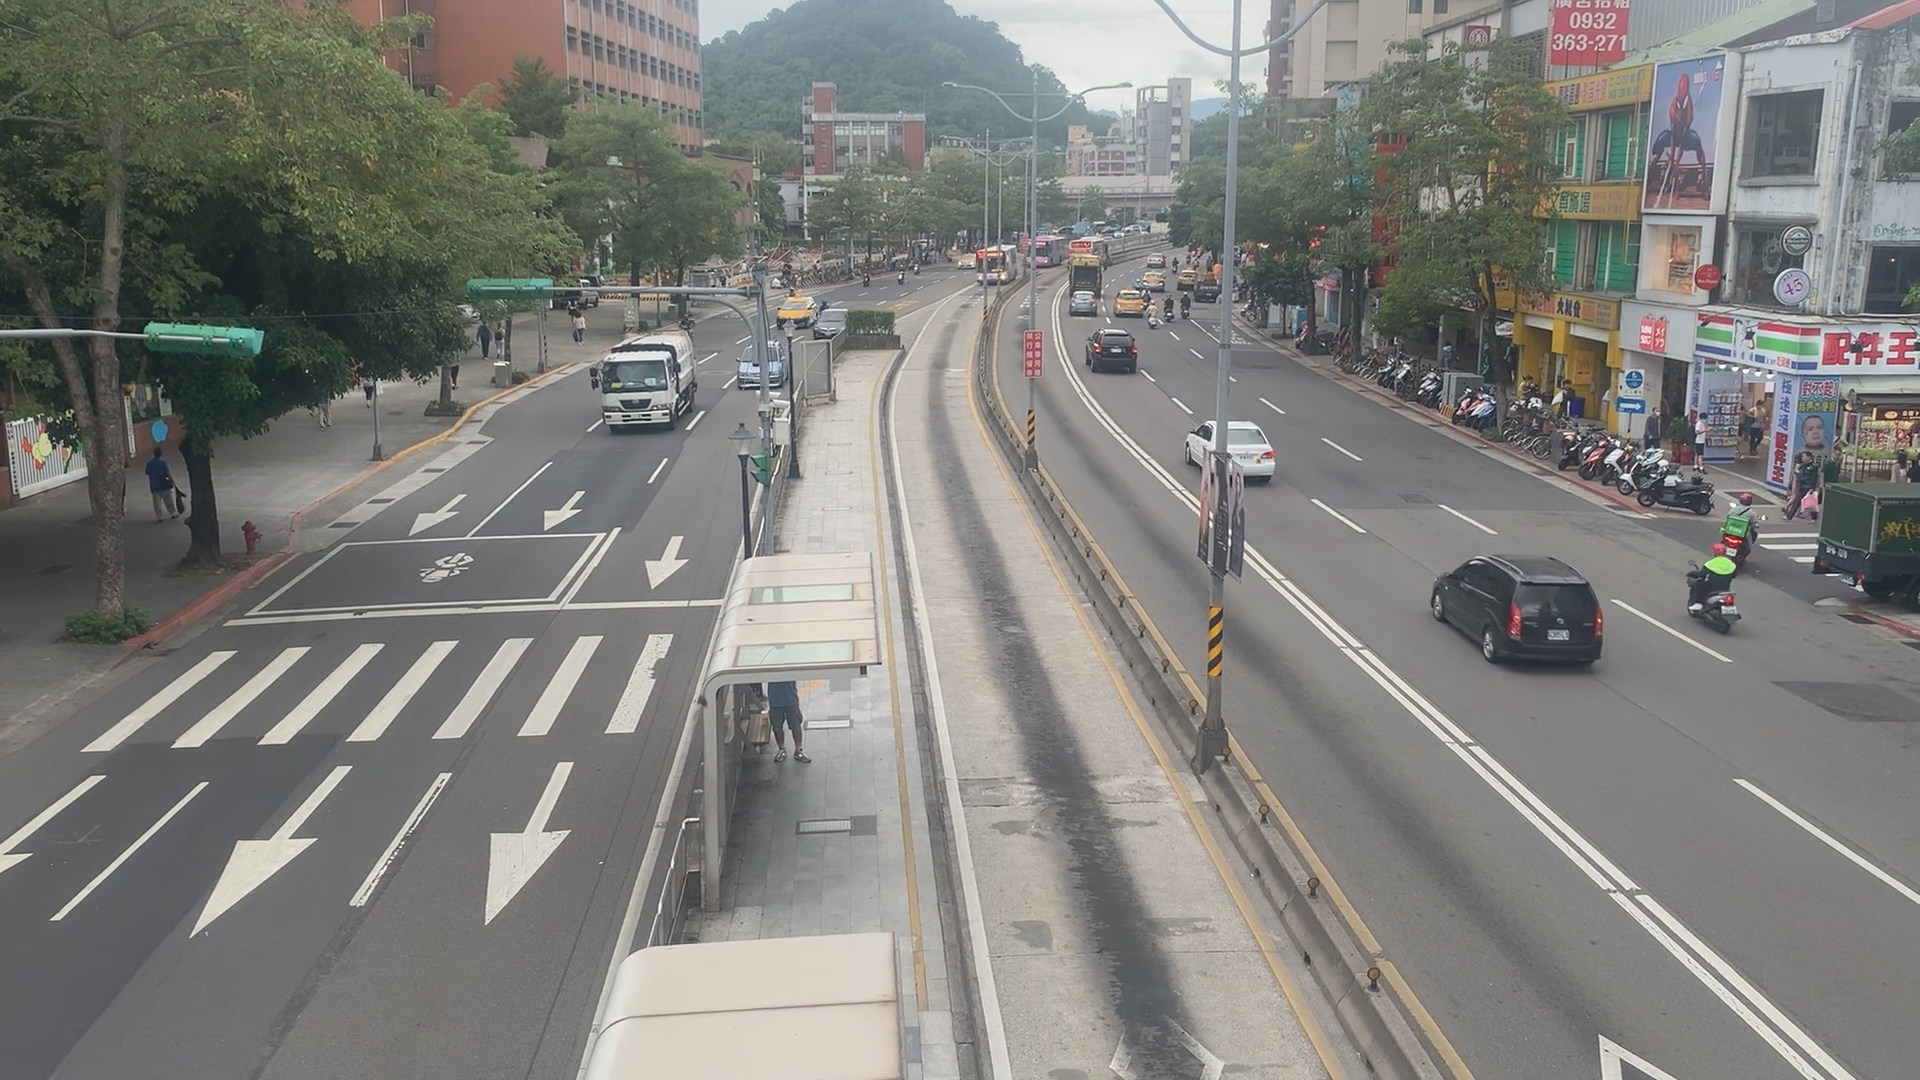Bus: (597, 339, 705, 421), (1068, 251, 1114, 299), (972, 244, 1015, 286)
Business Passenger Car: (771, 293, 814, 334), (1112, 287, 1142, 320)
Motorcycle: (1685, 543, 1747, 636), (1722, 489, 1762, 567), (1174, 289, 1200, 324), (1142, 295, 1160, 334), (1158, 289, 1176, 323)
Private Passenger Car: (1422, 547, 1618, 676), (1189, 419, 1280, 487), (1085, 320, 1138, 375), (738, 336, 789, 386), (812, 307, 856, 343), (1069, 289, 1098, 316)
